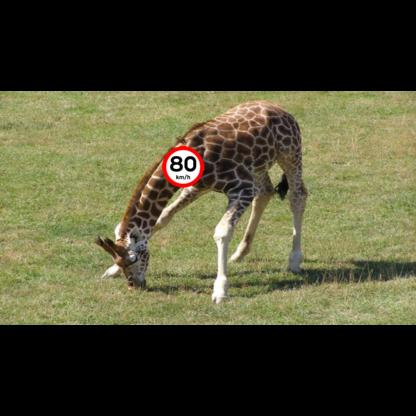R-19: (162, 146, 204, 188)
